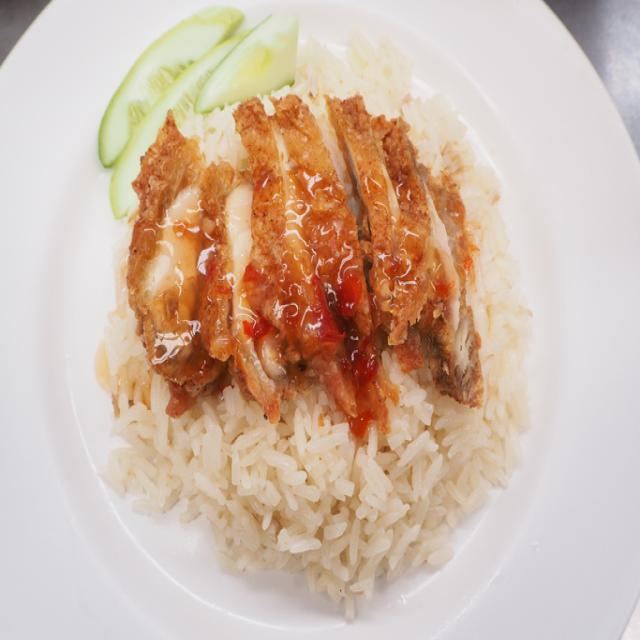Carbohydrate: (89, 40, 534, 624)
Kaow-Mankai: (0, 0, 640, 640)
Protein: (127, 100, 488, 427)
Vegetable: (95, 2, 296, 188)
